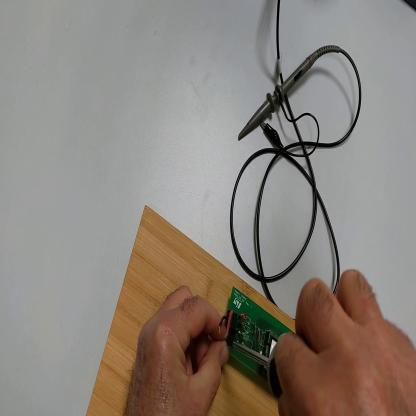hand: (275, 274, 416, 416), (130, 287, 229, 414)
high voltage board: (219, 288, 295, 385)
oscilloscope probe tip: (238, 53, 318, 143)
screwdriver-: (227, 338, 283, 401)
working area: (87, 206, 296, 415)
